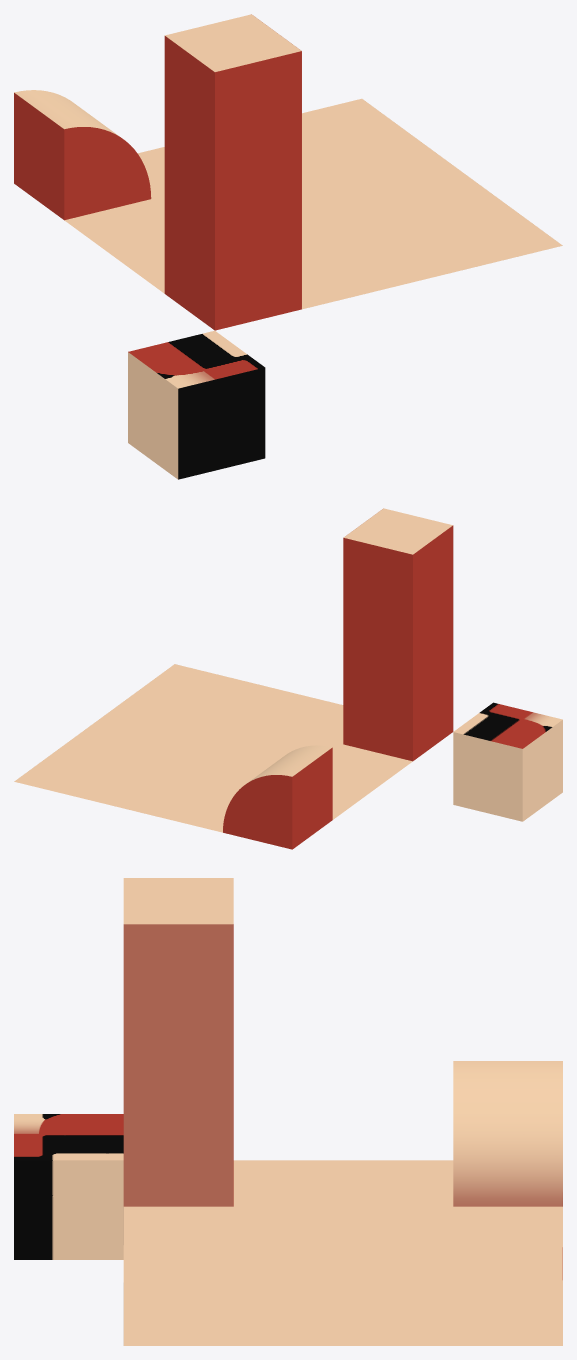
The picture shows the model from 3 angles, top to bottom: view 1: azimuth 30°, elevation 25°; view 2: azimuth 150°, elevation 25°; view 3: azimuth 270°, elevation 25°; orthographic projection. The views are drawn at different scales.
Parts seen in each view (by area): view 1: Plane, 立方体; view 2: Plane, 立方体; view 3: Plane, 立方体.
Part boxes in pixels (x1,y1,x2,y2): Plane: (14,14,562,330); 立方体: (128,330,265,479); Plane: (14,508,453,849); 立方体: (453,702,562,821); Plane: (123,878,562,1345); 立方体: (14,1114,123,1259).
Size of the model in its own units: 10 by 7.67 by 10.
Materials: 1 (1 with a texture image).
